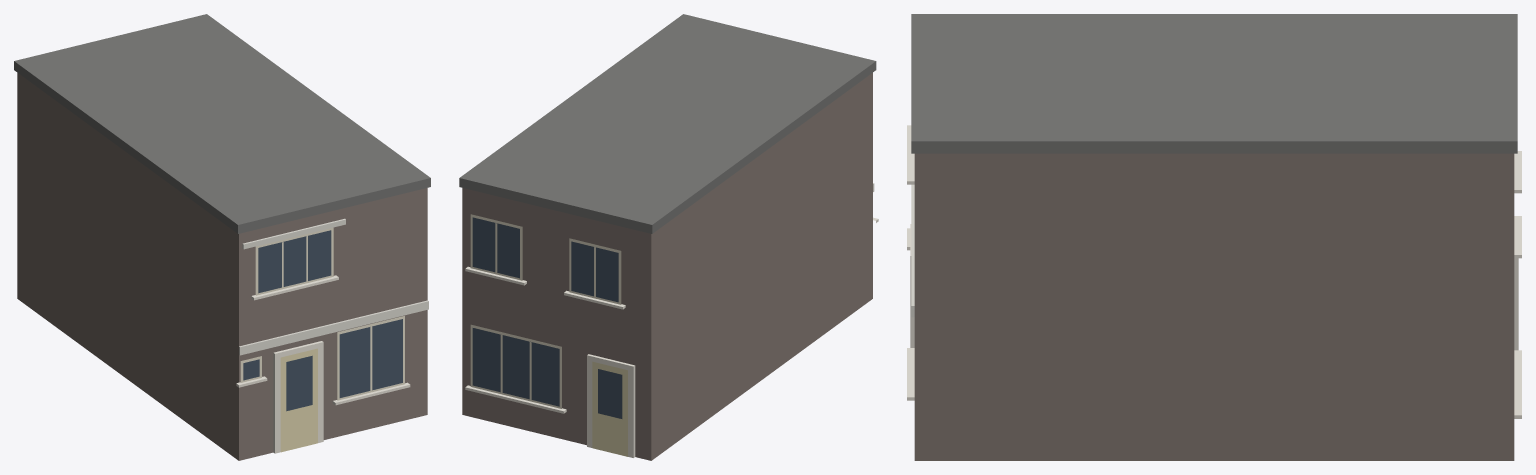
Rendered from zo-rb-flat-band__brown__2__flat__long__solid__mirror.glb.
The picture shows the model from 3 angles, left to right: view 1: azimuth 30°, elevation 25°; view 2: azimuth 150°, elevation 25°; view 3: azimuth 270°, elevation 25°; orthographic projection. The views are drawn at different scales.
Visible parts, largest first — view 1: zo-rb-flat-band__brown__2__flat__long__solid__mirror; view 2: zo-rb-flat-band__brown__2__flat__long__solid__mirror; view 3: zo-rb-flat-band__brown__2__flat__long__solid__mirror.
Boxes of the visible parts, x1,y1,x2,y2 form: zo-rb-flat-band__brown__2__flat__long__solid__mirror: (14, 14, 430, 460); zo-rb-flat-band__brown__2__flat__long__solid__mirror: (459, 14, 878, 460); zo-rb-flat-band__brown__2__flat__long__solid__mirror: (907, 14, 1521, 460).
Bounding box in the file's own units: 4.91 × 5.75 × 9.98.
